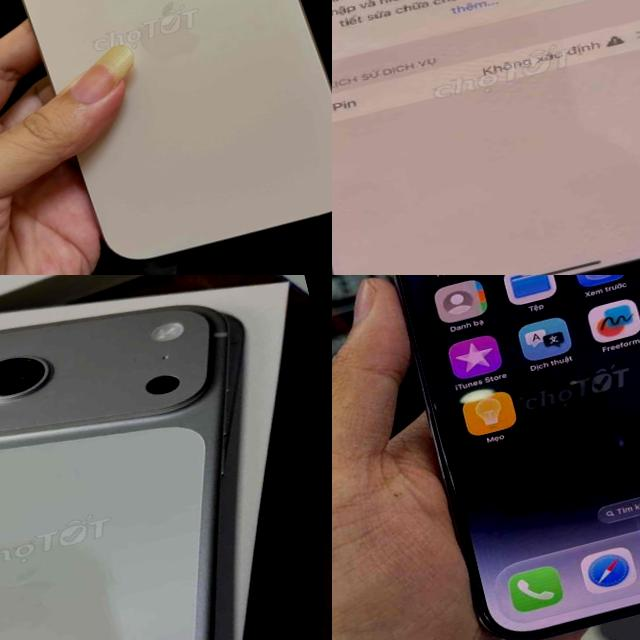gen_14: (332, 275, 640, 640)
gen_16: (0, 0, 332, 275)
gen_17: (0, 275, 332, 640)
gen_x_xs: (332, 0, 640, 275)
